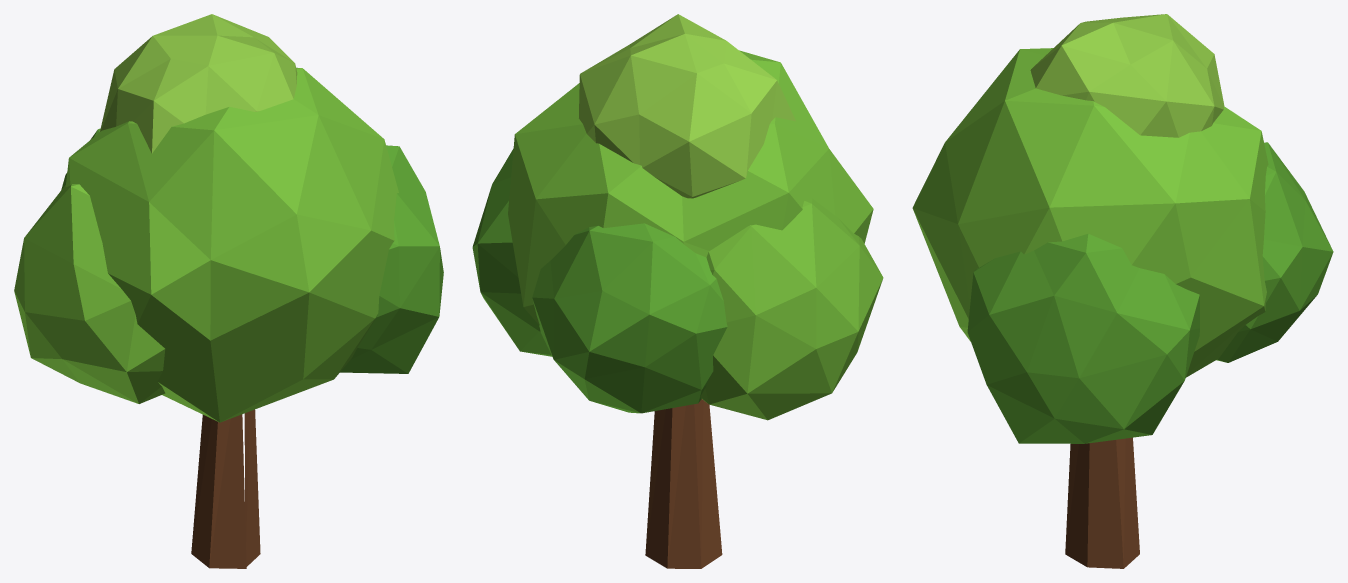
File: arbol_redondo_v3.glb
3 renders of one model, left to right at view 1: azimuth 30°, elevation 25°; view 2: azimuth 150°, elevation 25°; view 3: azimuth 270°, elevation 25°, orthographic. The views are drawn at different scales.
Visible parts, largest first — view 1: copa_1, copa_3, copa_4, copa_2, tronco; view 2: copa_1, copa_5, copa_3, copa_4, tronco, copa_2; view 3: copa_1, copa_2, copa_4, copa_5, tronco.
Part boxes in pixels (x1,y1,x2,y2): copa_1: [65, 67, 398, 422]; copa_3: [14, 184, 165, 403]; copa_4: [100, 14, 297, 153]; copa_2: [340, 145, 443, 373]; tronco: [191, 409, 260, 568]; copa_1: [508, 50, 873, 325]; copa_5: [532, 223, 727, 413]; copa_3: [700, 198, 883, 420]; copa_4: [579, 14, 795, 198]; tronco: [645, 399, 722, 568]; copa_2: [472, 148, 551, 356]; copa_1: [912, 48, 1268, 377]; copa_2: [967, 233, 1199, 443]; copa_4: [1030, 14, 1224, 137]; copa_5: [1216, 142, 1333, 362]; tronco: [1065, 437, 1139, 568].
Size of the model in its own units: 4.21 by 5.46 by 3.93.
